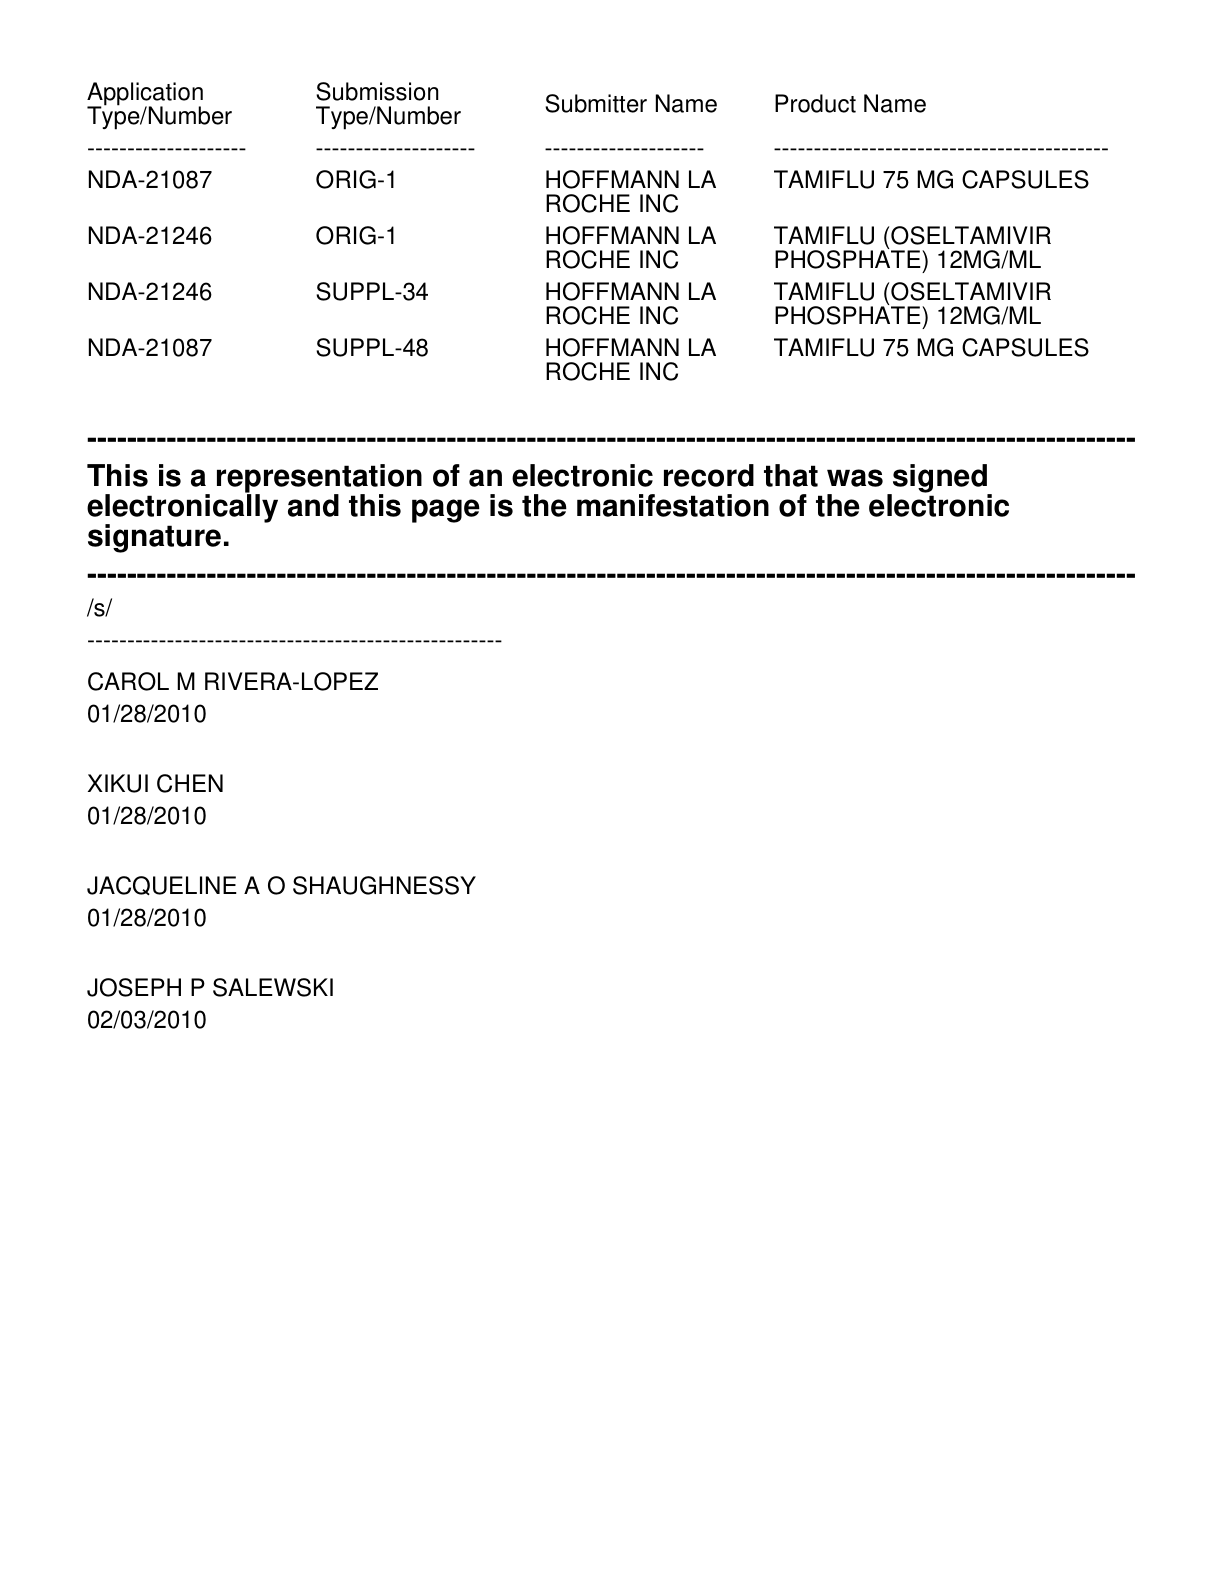nolines: (82, 77, 1106, 384)
